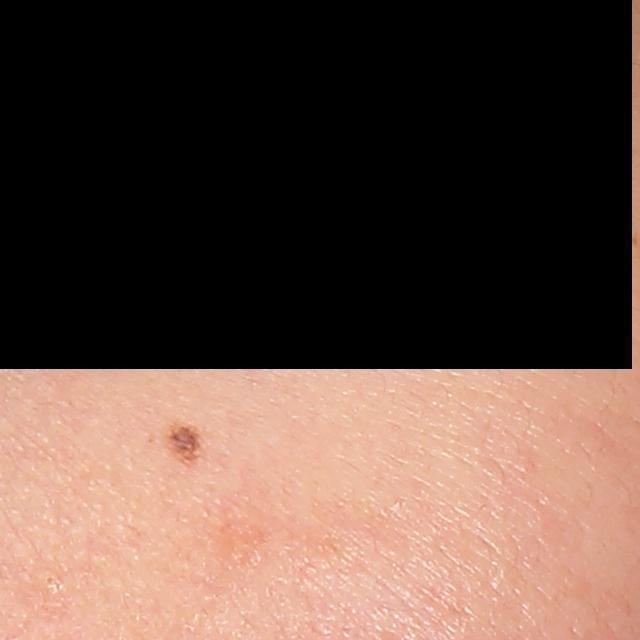nevus: (164, 423, 208, 469)
